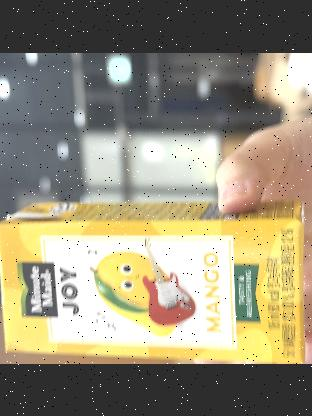Others: (0, 197, 308, 361)
